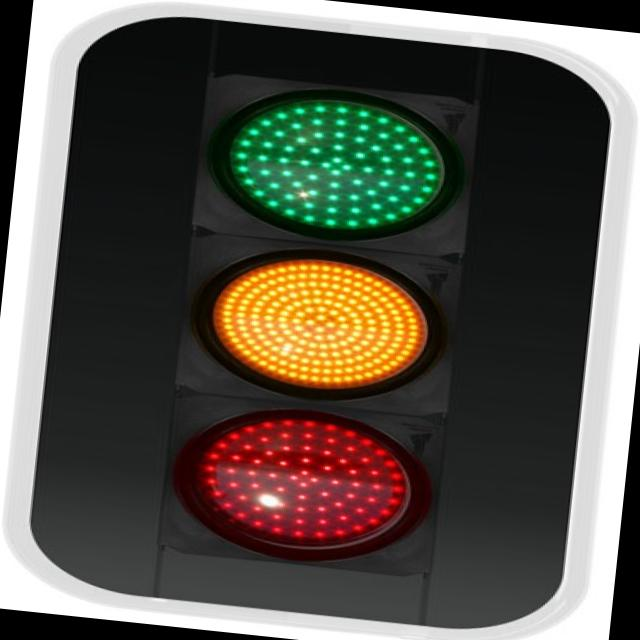green-lights: (217, 88, 456, 244)
red-lights: (192, 409, 416, 554)
yellow-lights: (206, 248, 434, 398)
